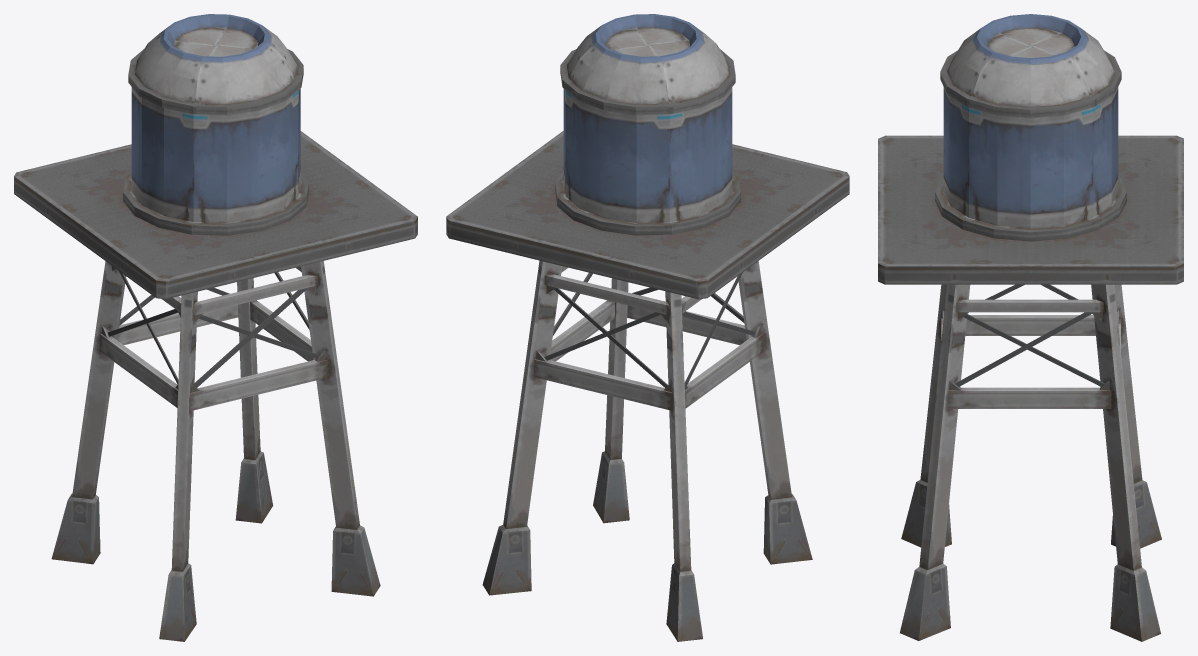
File: Demp_ta.FBX
3 views of the same model, side by side, from view 1: azimuth 30°, elevation 25°; view 2: azimuth 150°, elevation 25°; view 3: azimuth 270°, elevation 25° (orthographic). The views are drawn at different scales.
Visible parts, largest first — view 1: Demp_ta; view 2: Demp_ta; view 3: Demp_ta.
Boxes of the visible parts, left/top/right/bottom form: Demp_ta: left=14, top=14, right=417, bottom=641; Demp_ta: left=446, top=14, right=849, bottom=641; Demp_ta: left=878, top=14, right=1183, bottom=641.
Size of the model in its own units: 7.21 by 14.13 by 7.12.
